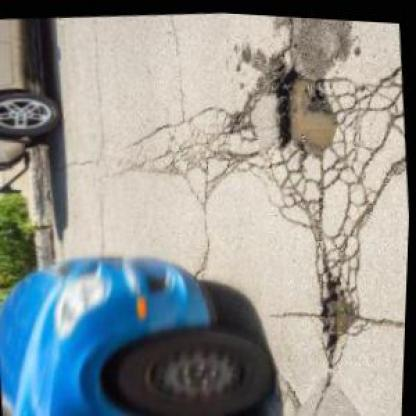pothole: (257, 60, 341, 157), (314, 266, 364, 343)
